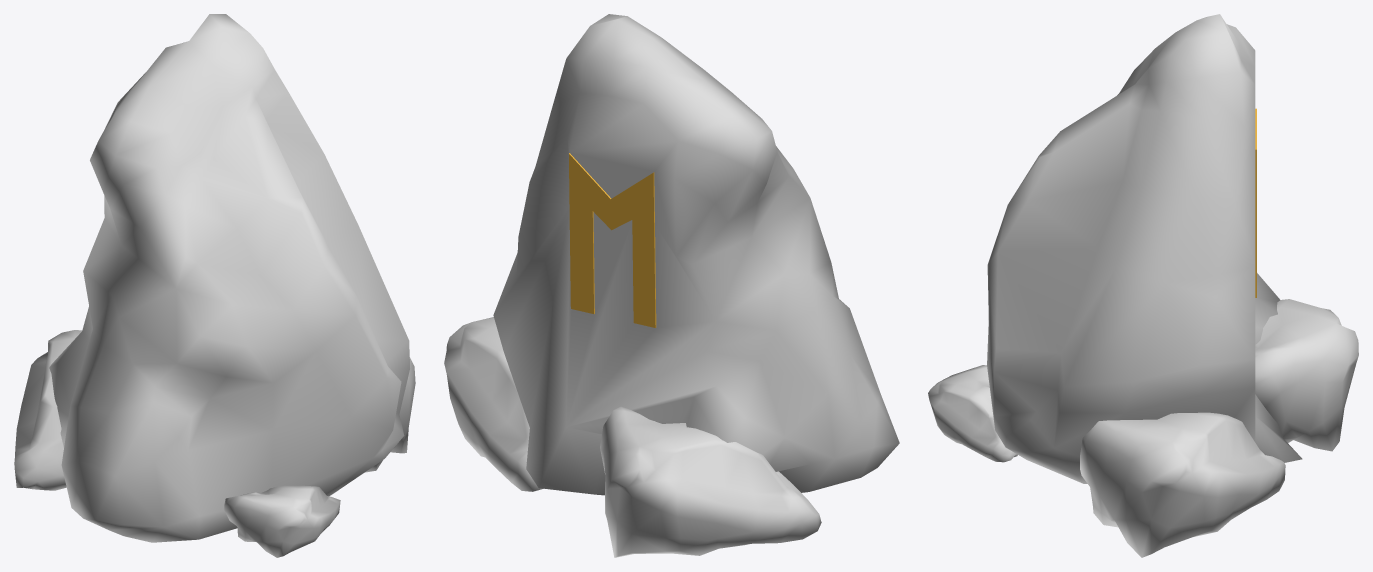
The model's file is Ehwaz.fbx.
3 views of the same model, side by side, from view 1: azimuth 30°, elevation 25°; view 2: azimuth 150°, elevation 25°; view 3: azimuth 270°, elevation 25° (orthographic). The views are drawn at different scales.
Visible parts, largest first — view 1: uploads_files_4276670_stone_small; view 2: uploads_files_4276670_stone_small, Ehwaz; view 3: uploads_files_4276670_stone_small.
Boxes of the visible parts, left/top/right/bottom form: uploads_files_4276670_stone_small: left=14, top=14, right=415, bottom=557; uploads_files_4276670_stone_small: left=444, top=14, right=899, bottom=557; Ehwaz: left=569, top=153, right=656, bottom=327; uploads_files_4276670_stone_small: left=928, top=14, right=1358, bottom=557.
Bounding box in the file's own units: 155 × 181 × 152.
